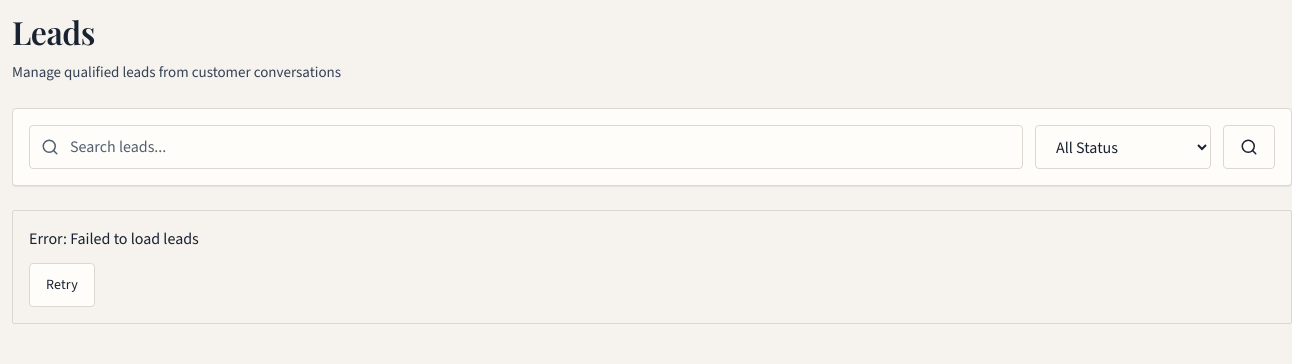
Test: Leads search and status filters › retries a failed request and recovers when the service returns data
Click the button "Retry" at point(62, 285), box [29, 263, 95, 307]
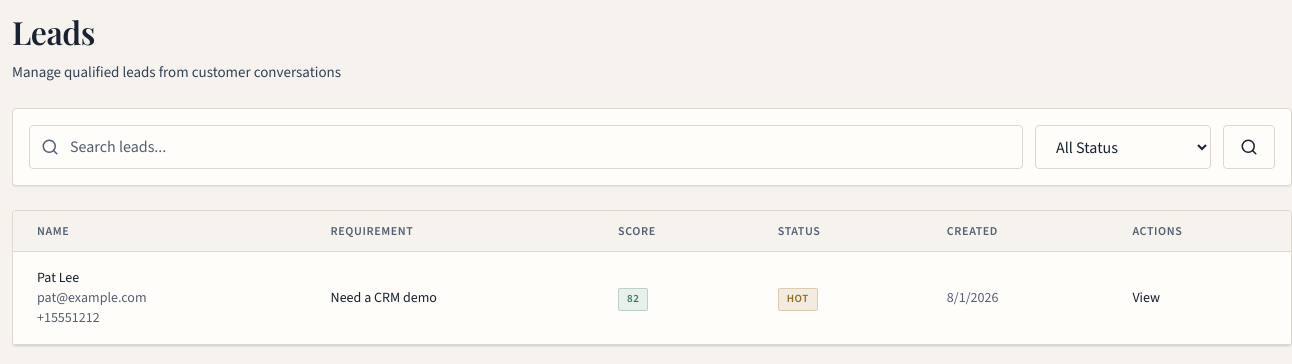
Now the text "Pat Lee" is shown, box [37, 268, 79, 287]
